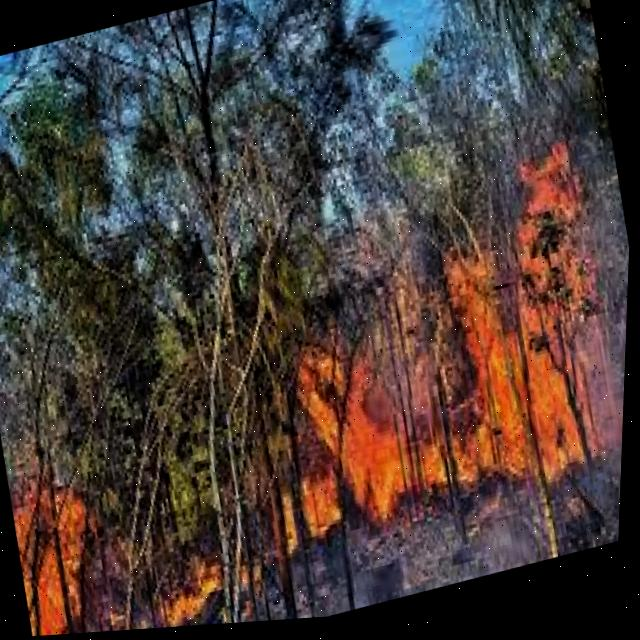fire: (456, 236, 609, 498), (301, 347, 412, 539)
